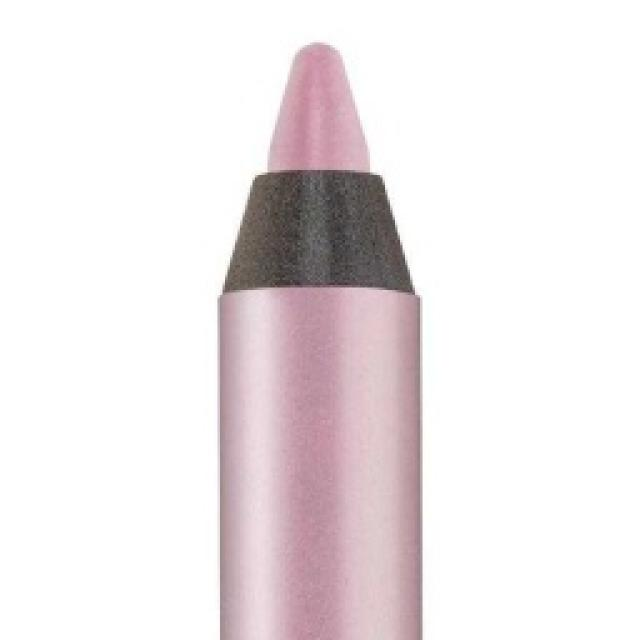pencil: (213, 38, 425, 638)
